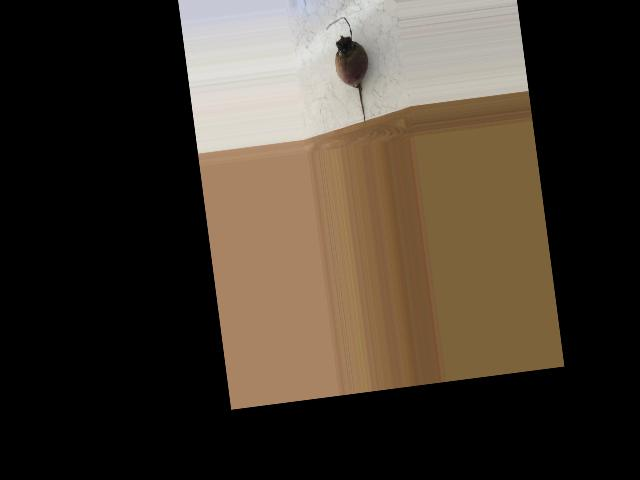beet: (325, 15, 376, 126)
